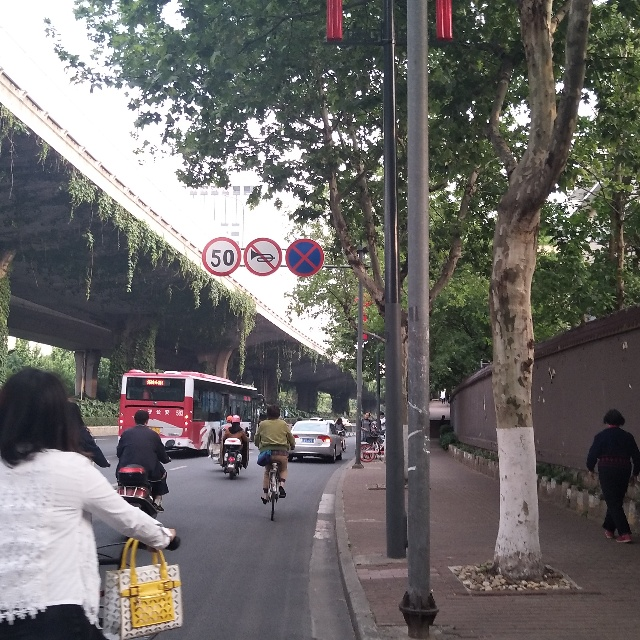nohonk: (243, 240, 277, 275)
stop: (287, 237, 321, 272)
